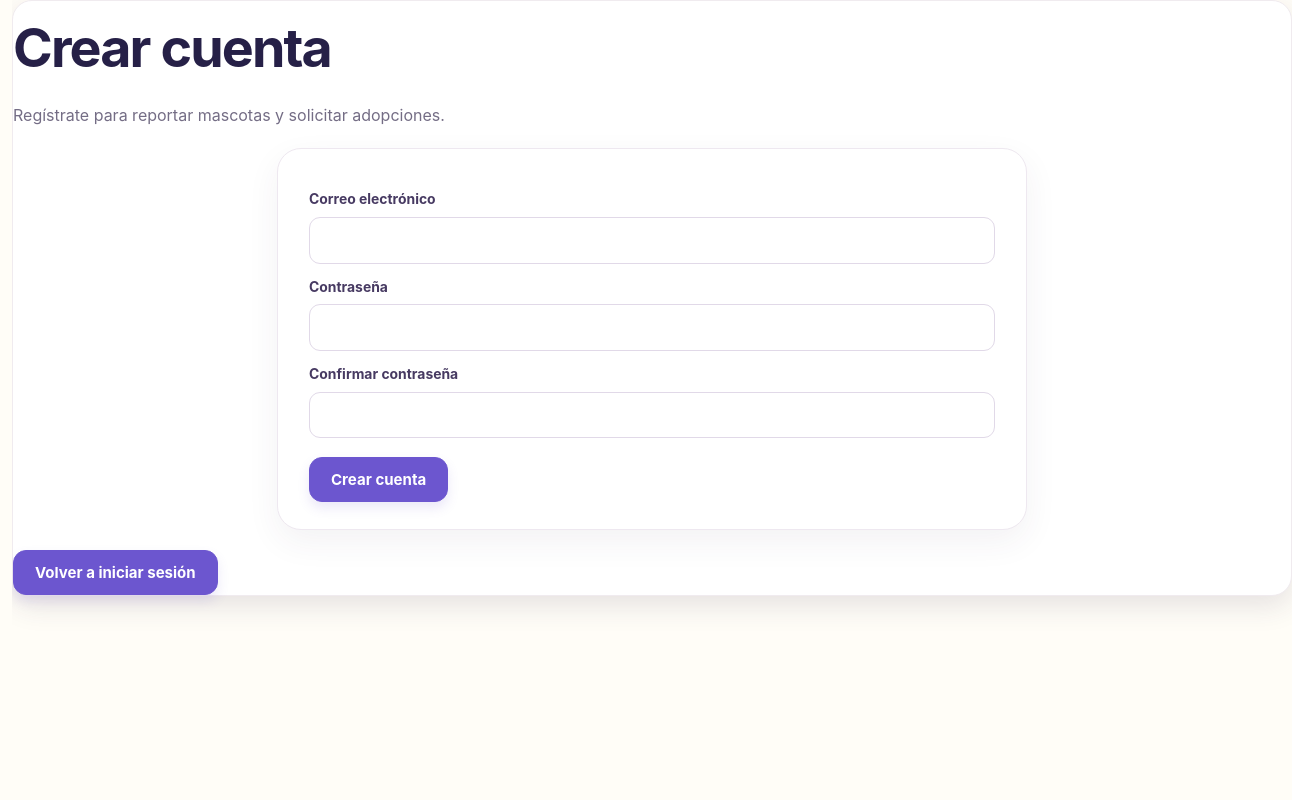
Test: no envía contraseñas que no coinciden
In the field labelled "Correo electrónico": (652, 240) left=309, top=217, right=995, bottom=264, type "nuevo@ejemplo.com"
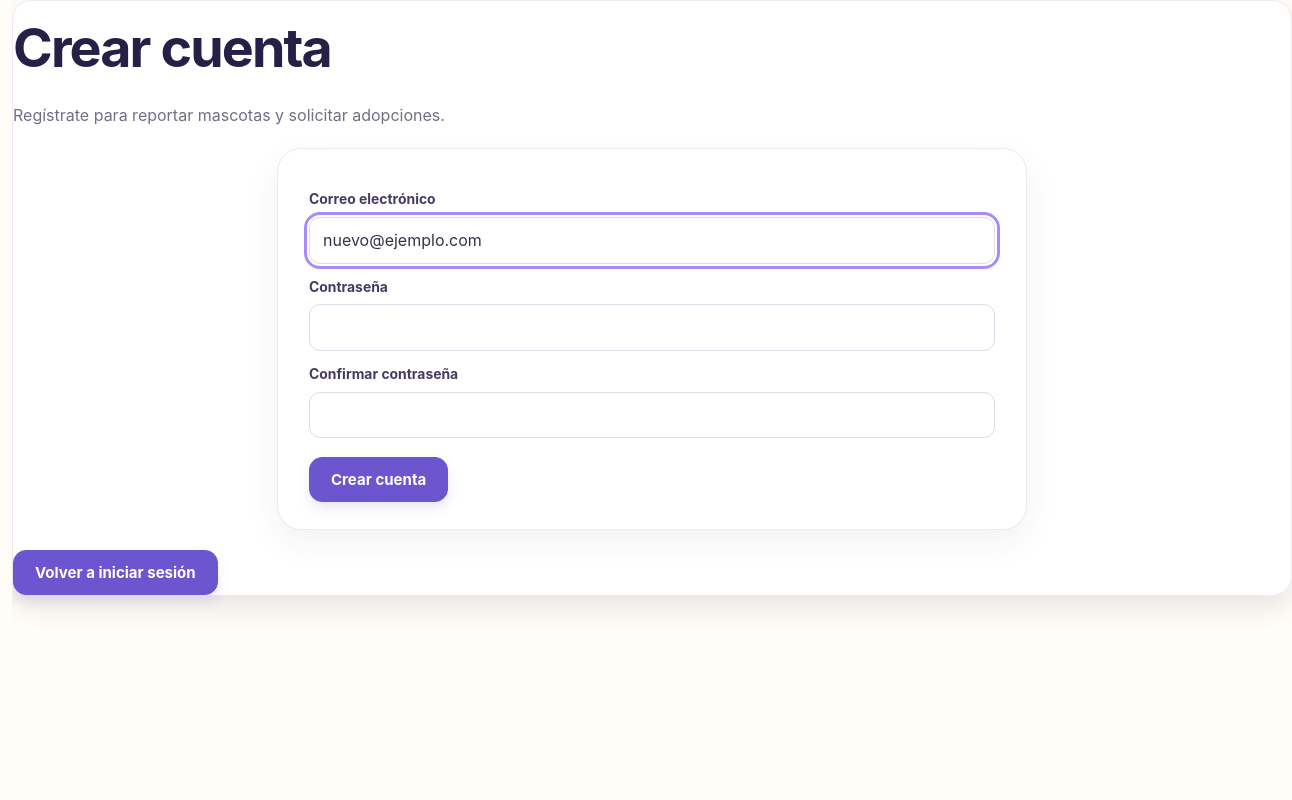
In the password field labelled "Contraseña": (652, 328) left=309, top=304, right=995, bottom=351, type "Clave12345"
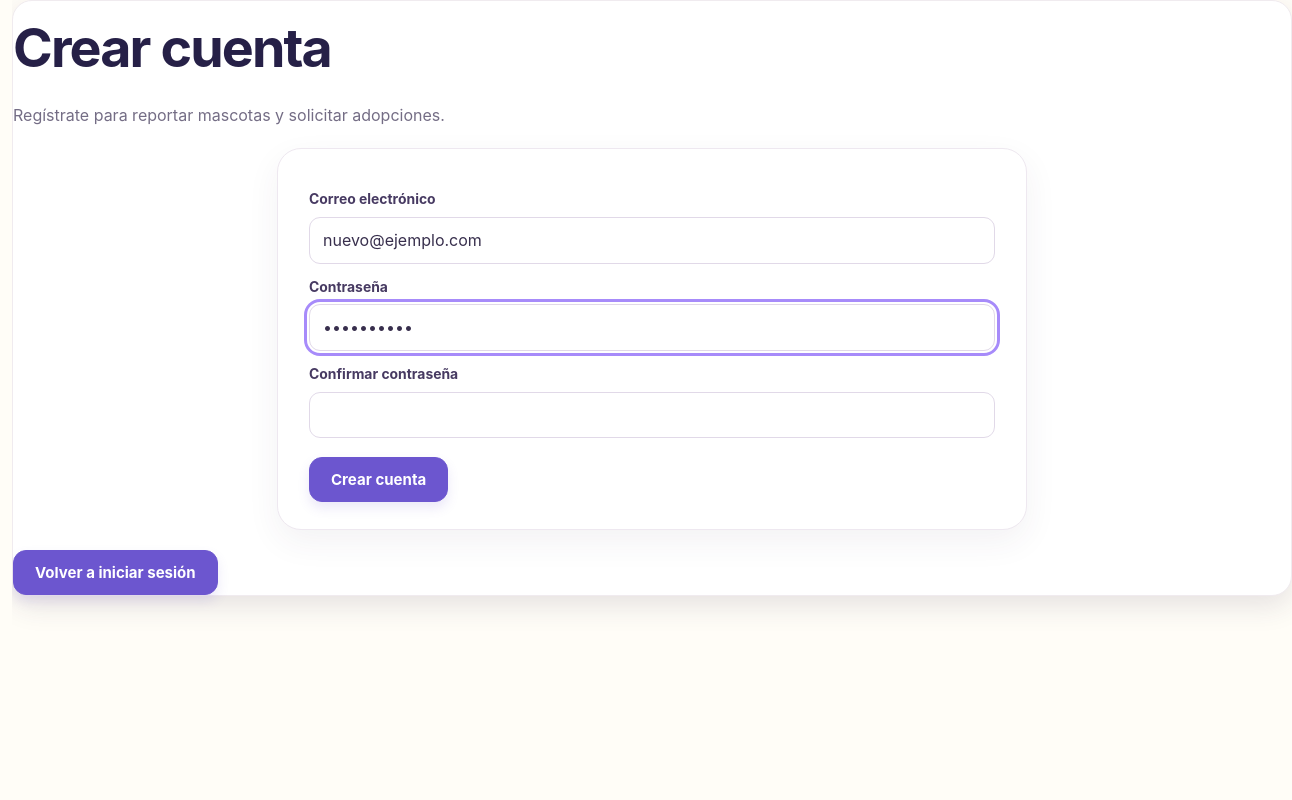
In the password field labelled "Confirmar contraseña": (652, 415) left=309, top=392, right=995, bottom=438, type "Clave12346"
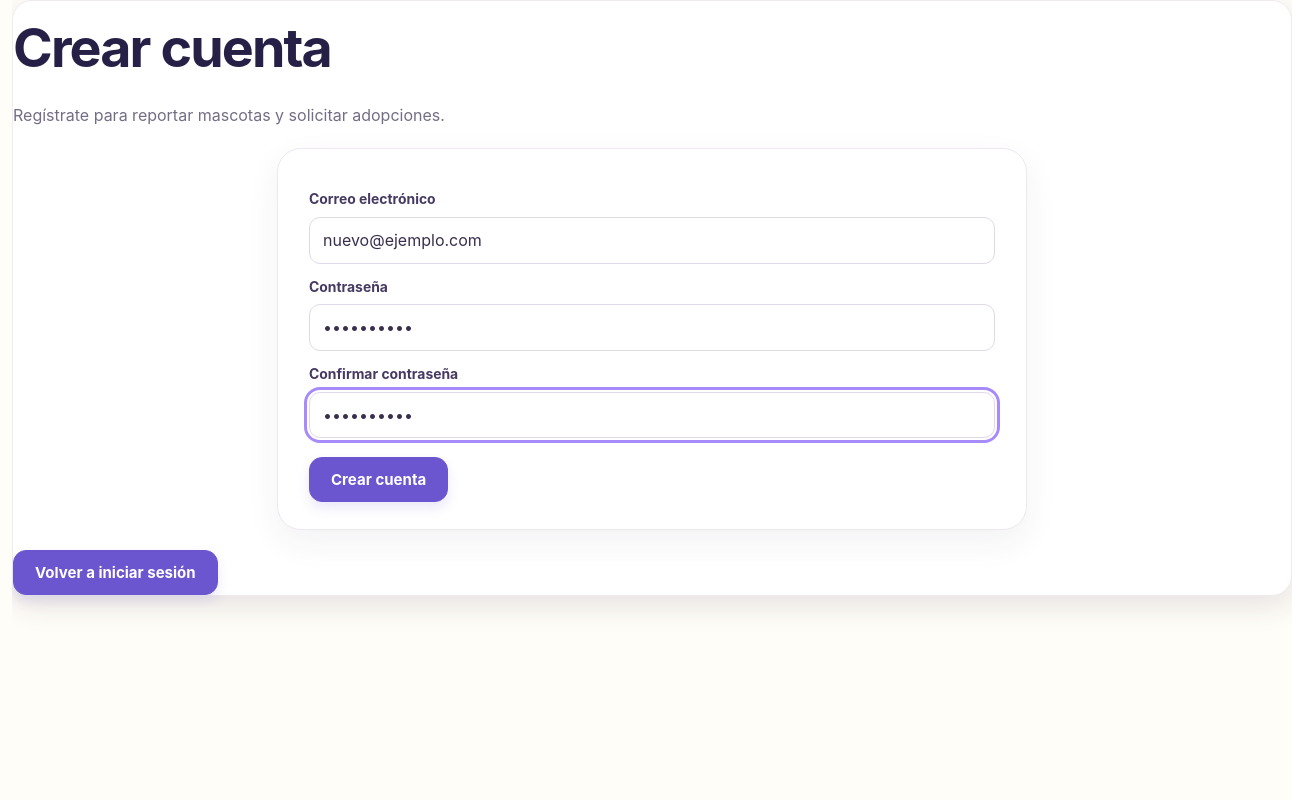
Click the button "Crear cuenta": click(379, 480) left=309, top=457, right=448, bottom=502
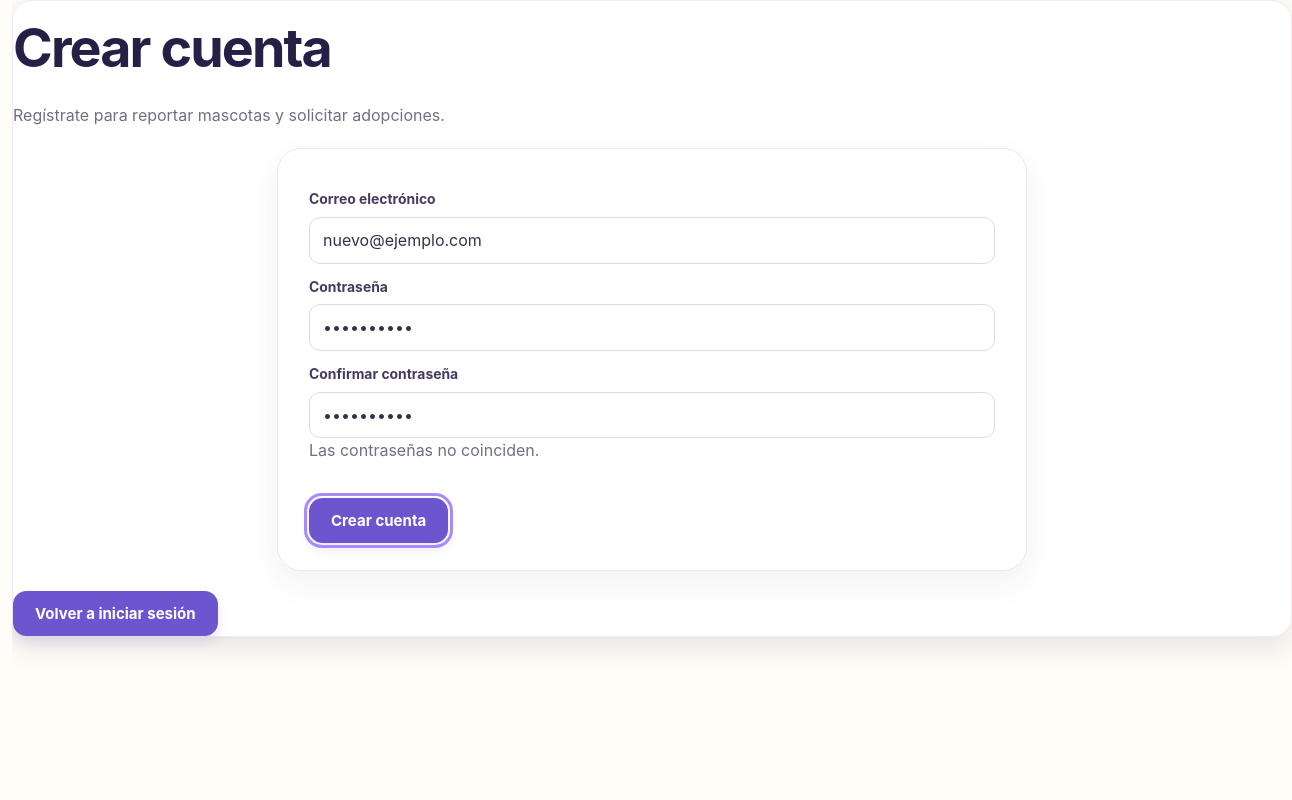
Expected: the message shows "Las contraseñas no coinciden", left=309, top=440, right=539, bottom=460
